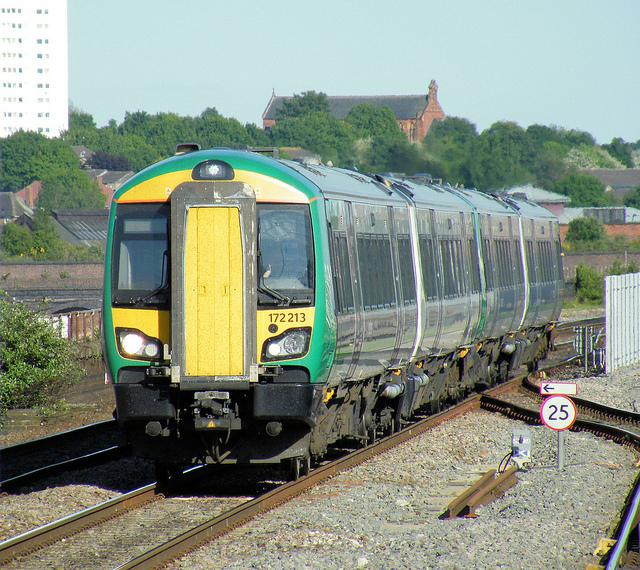Train: (107, 144, 563, 484)
